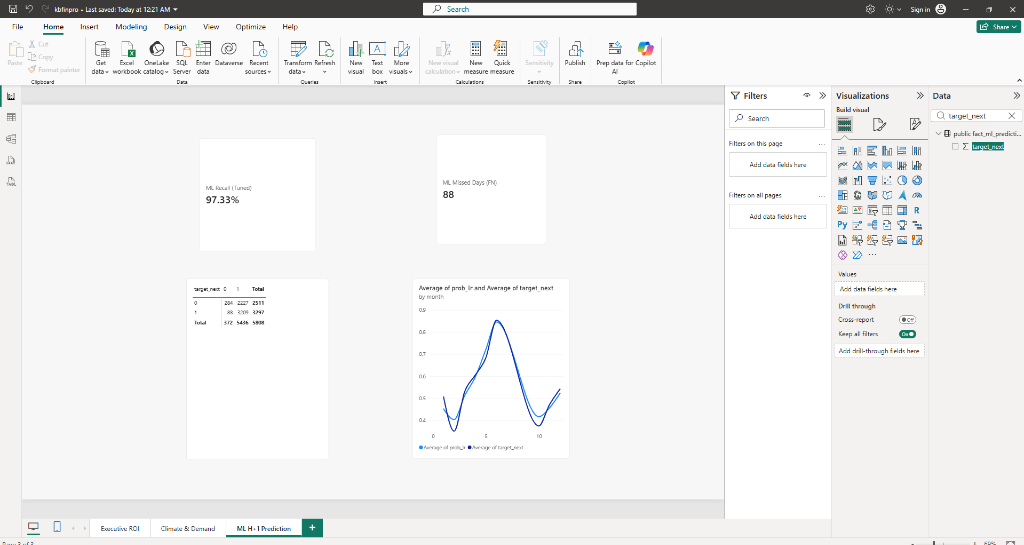

Layout of this report page (visuals, bound fields, positions):
{"tool":"powerbi","page":{"name":" ML H+1 Prediction","canvas":[1920,1080],"ordinal":2},"visuals":[{"type":"cardVisual","fields":{"Data":["_Measures.ML Recall (Tuned)"]},"box":[485.8,91.9,318.1,310.8],"z":0},{"type":"cardVisual","fields":{"Data":["_Measures.ML Missed Days (FN)"]},"box":[1133.6,81.7,300,300],"z":1000},{"type":"pivotTable","fields":{"Columns":["public fact_ml_predictions.pred_lr_fn3"],"Rows":["public fact_ml_predictions.target_next"],"Values":["CountNonNull(public fact_ml_predictions.date_id)"]},"box":[449.4,475.6,389.5,496],"z":2000},{"type":"lineChart","fields":{"Category":["public dim_date.month"],"Y":["Avg(public fact_ml_predictions.prob_lr)","Avg(public fact_ml_predictions.target_next)"]},"box":[1068,475.6,430.4,493.1],"z":3000}]}

Visuals, with their boxes on the page's 1920x1080 design canvas (x1, y1, x2, y2). These are canvas units, not pixel positions in the 1024x545 screenshot, which may show the page scaled, cropped or inside an application window:
cardVisual - _Measures.ML Recall (Tuned): 486, 92, 804, 403
cardVisual - _Measures.ML Missed Days (FN): 1134, 82, 1434, 382
pivotTable - public fact_ml_predictions.pred_lr_fn3 x public fact_ml_predictions.target_next: 449, 476, 839, 972
lineChart - public dim_date.month x Avg(public fact_ml_predictions.prob_lr): 1068, 476, 1498, 969
